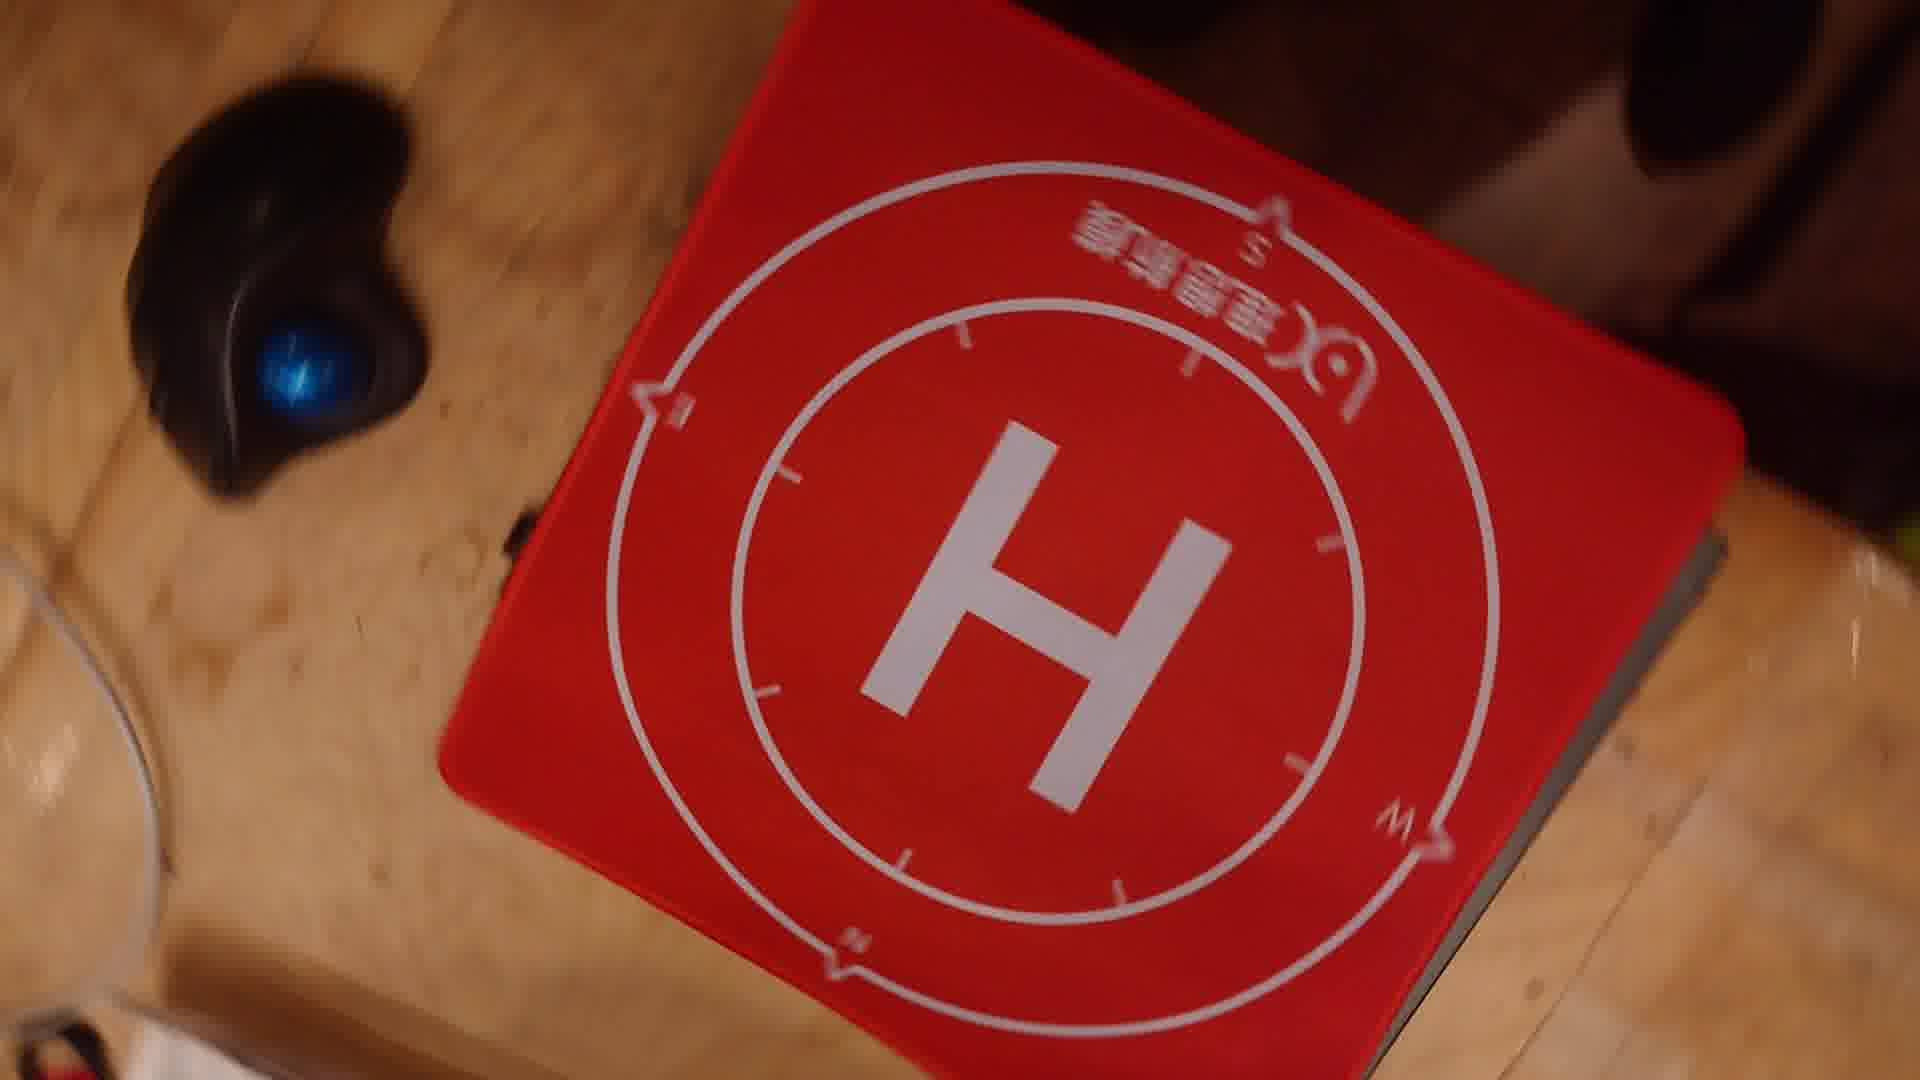H: (862, 411, 1240, 816)
